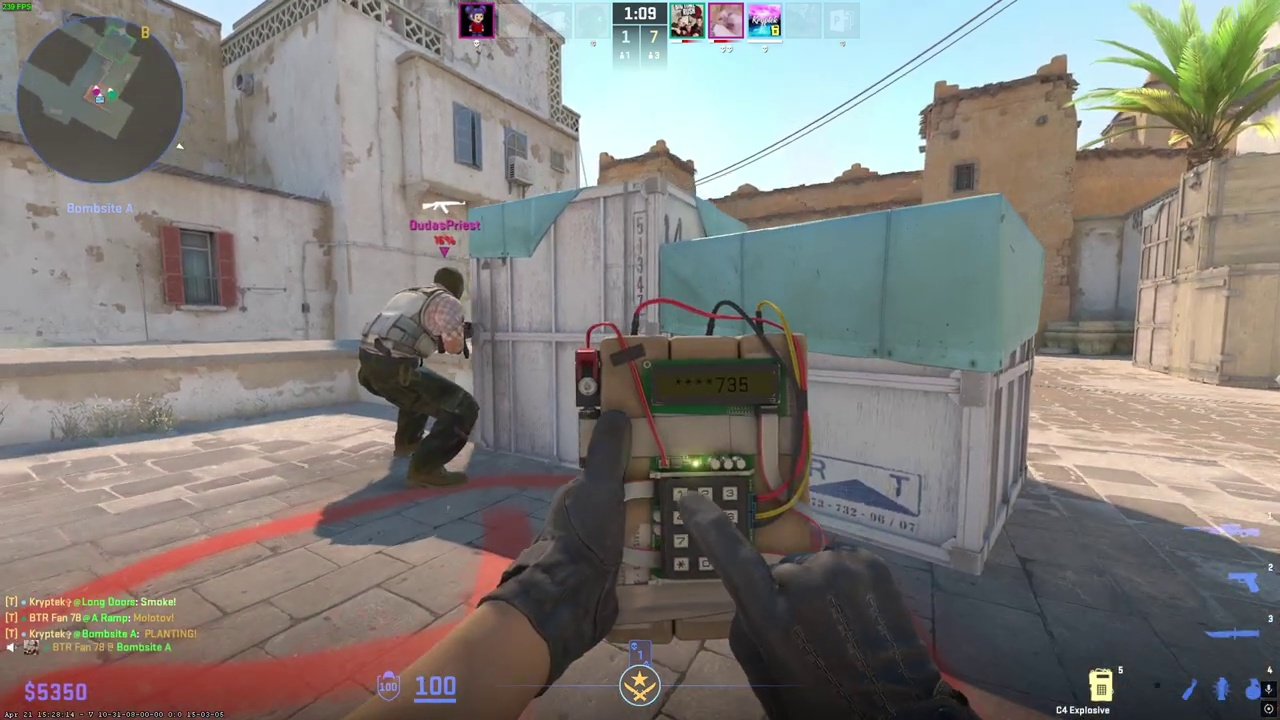Terrorist: (359, 266, 480, 490)
